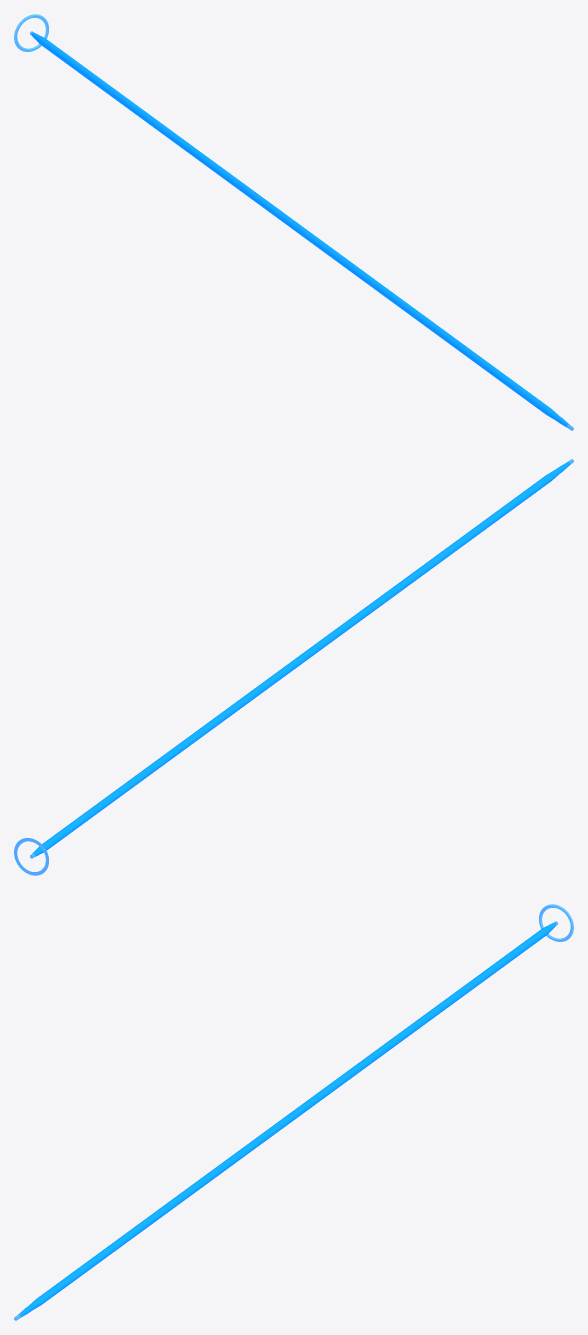
The model's file is laser-pointer-ray.glb.
The picture shows the model from 3 angles, top to bottom: view 1: azimuth 30°, elevation 25°; view 2: azimuth 150°, elevation 25°; view 3: azimuth 330°, elevation 25°; orthographic projection.
Parts seen in each view (by area): view 1: ray-glow; view 2: ray-glow; view 3: ray-glow.
Boxes of the visible parts, x1,y1,x2,y2 form: ray-glow: (31, 32, 569, 427); ray-glow: (32, 461, 570, 856); ray-glow: (18, 922, 556, 1317).
Size of the model in its own units: 0.03 by 0.03 by 0.8.
